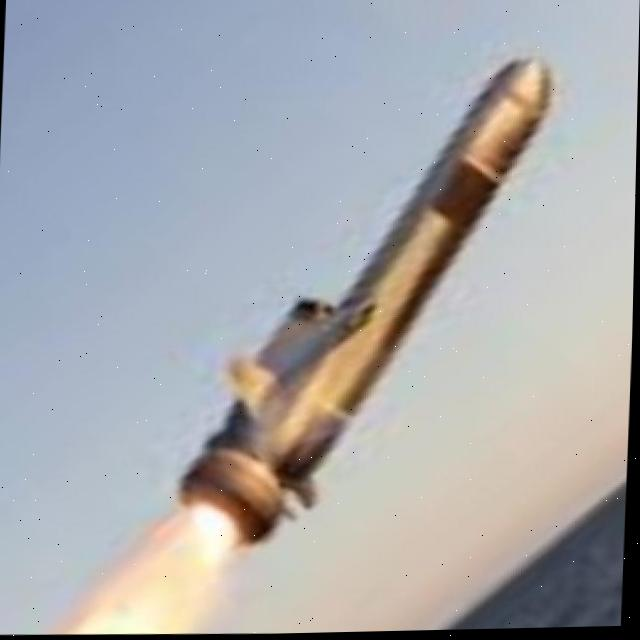missile: (173, 44, 555, 564)
